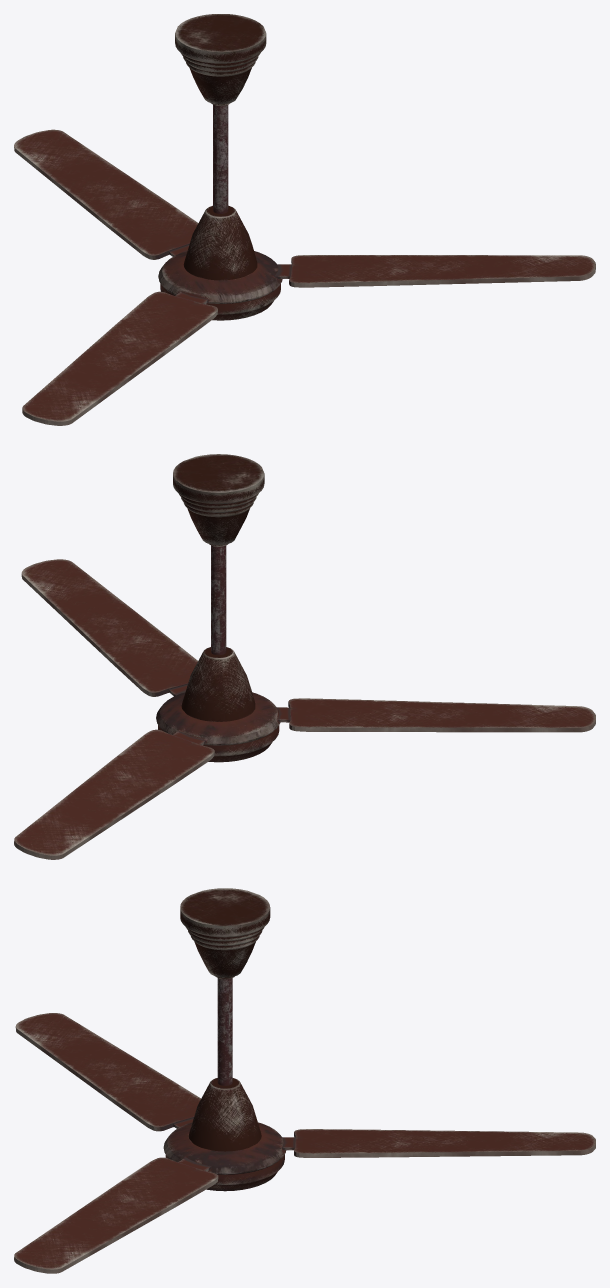
The model's file is ceiling_fan.glb.
3 renders of one model, top to bottom at view 1: azimuth 30°, elevation 25°; view 2: azimuth 150°, elevation 25°; view 3: azimuth 270°, elevation 25°, orthographic.
Parts seen in each view (by area): view 1: Object_4, Object_9, Object_6, Object_8; view 2: Object_4, Object_9, Object_6, Object_8; view 3: Object_4, Object_9, Object_6, Object_8.
Boxes of the visible parts, box(x1,y1,x2,y2) form: Object_4: box(14, 129, 595, 425); Object_9: box(175, 14, 266, 280); Object_6: box(158, 251, 282, 320); Object_8: box(213, 104, 228, 213); Object_4: box(14, 559, 595, 859); Object_9: box(173, 454, 264, 721); Object_6: box(156, 692, 280, 762); Object_8: box(211, 545, 226, 655); Object_4: box(14, 1013, 595, 1273); Object_9: box(180, 888, 270, 1151); Object_6: box(163, 1122, 286, 1191); Object_8: box(217, 978, 232, 1085).
Size of the model in its own units: 1.62 by 0.7463 by 1.46.
Materials: 4 (4 with a texture image).
